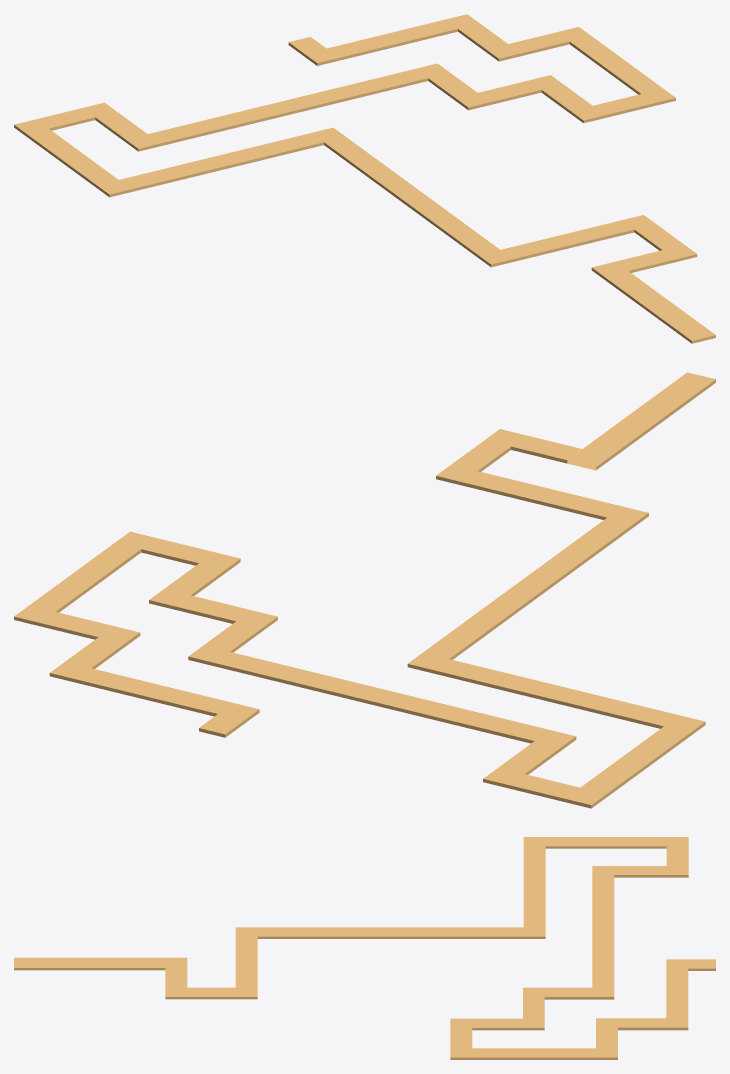
File: mazeRouteMed.gltf
3 renders of one model, top to bottom at view 1: azimuth 30°, elevation 25°; view 2: azimuth 150°, elevation 25°; view 3: azimuth 270°, elevation 25°, orthographic. The views are drawn at different scales.
Parts seen in each view (by area): view 1: Cube; view 2: Cube; view 3: Cube.
Boxes of the visible parts, x1,y1,x2,y2 form: Cube: (14, 14, 715, 343); Cube: (14, 372, 715, 808); Cube: (14, 837, 715, 1059).
Size of the model in its own units: 4.75 by 0.0247 by 6.39.
